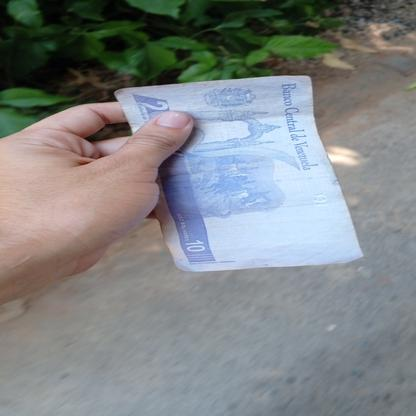ten-back-vef: (113, 76, 366, 272)
